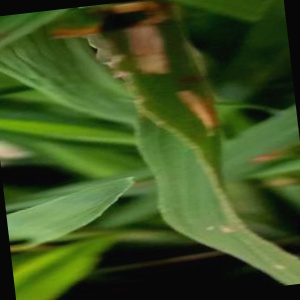Brown_Spot: (120, 16, 183, 83), (173, 80, 223, 144)
